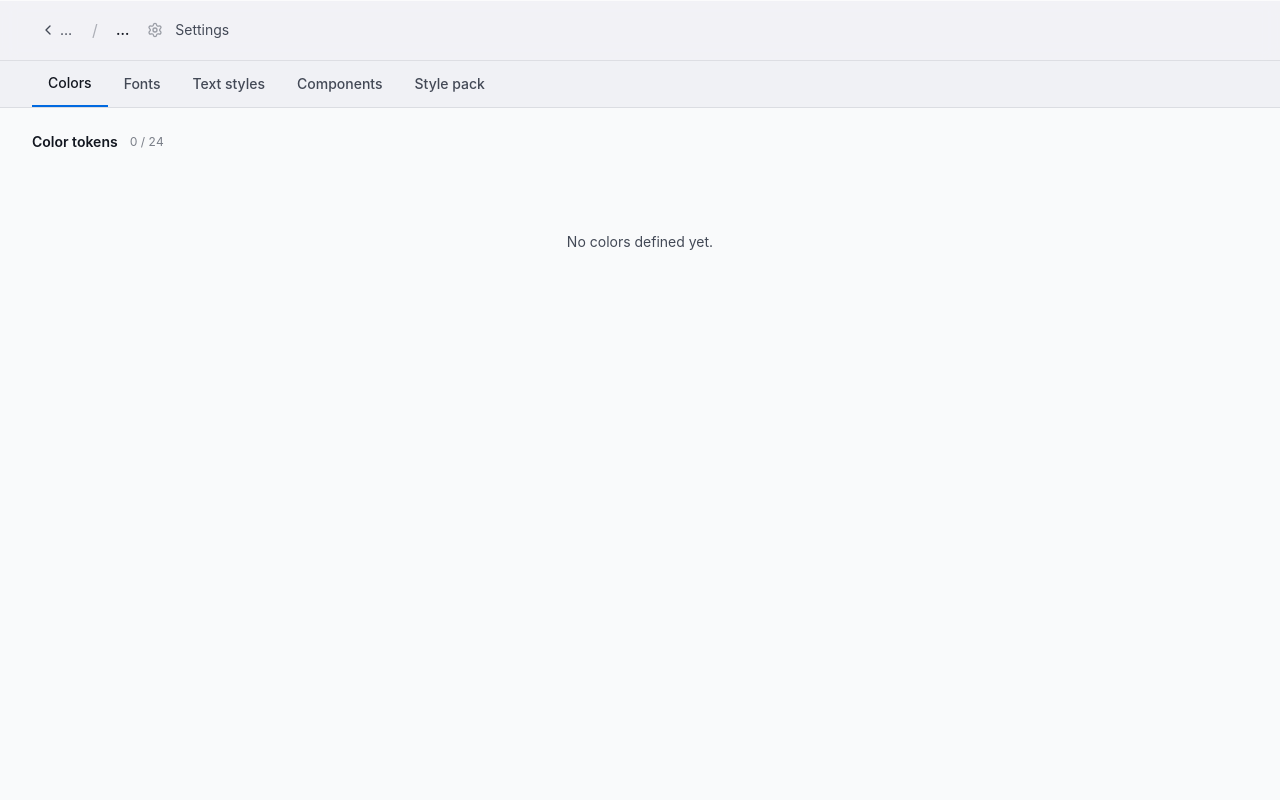
FolderSettings page › switches to Text styles tab
This screenshot has width=1280, height=800.
Step 1. Click the tab "Text styles" → (229, 84), box [176,61,281,107]
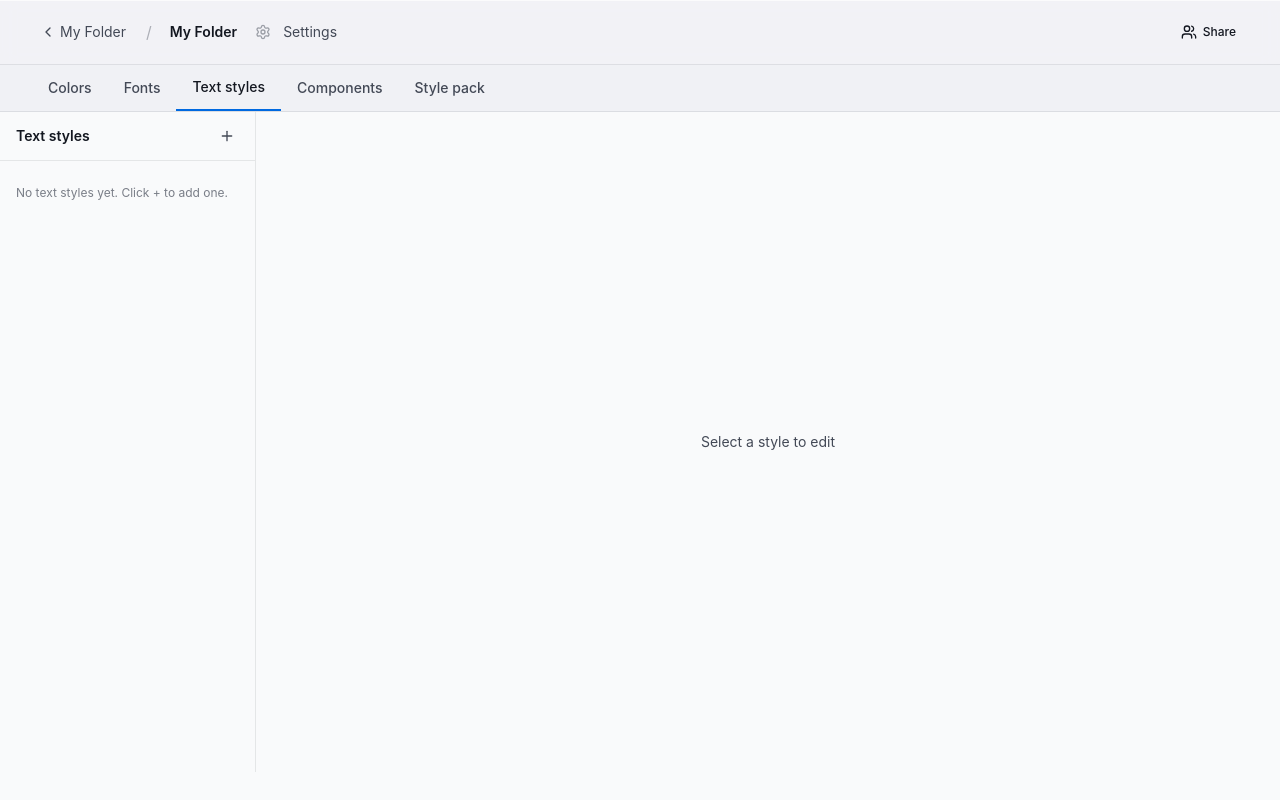
Expected: the text "No text styles yet. Click + to add one." is shown, [16,185,228,200]
